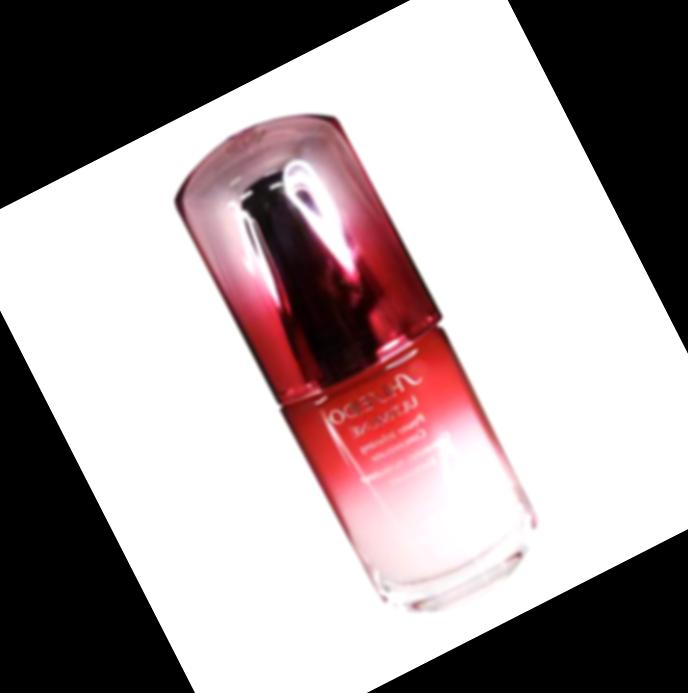cosmetic: (152, 82, 562, 636)
